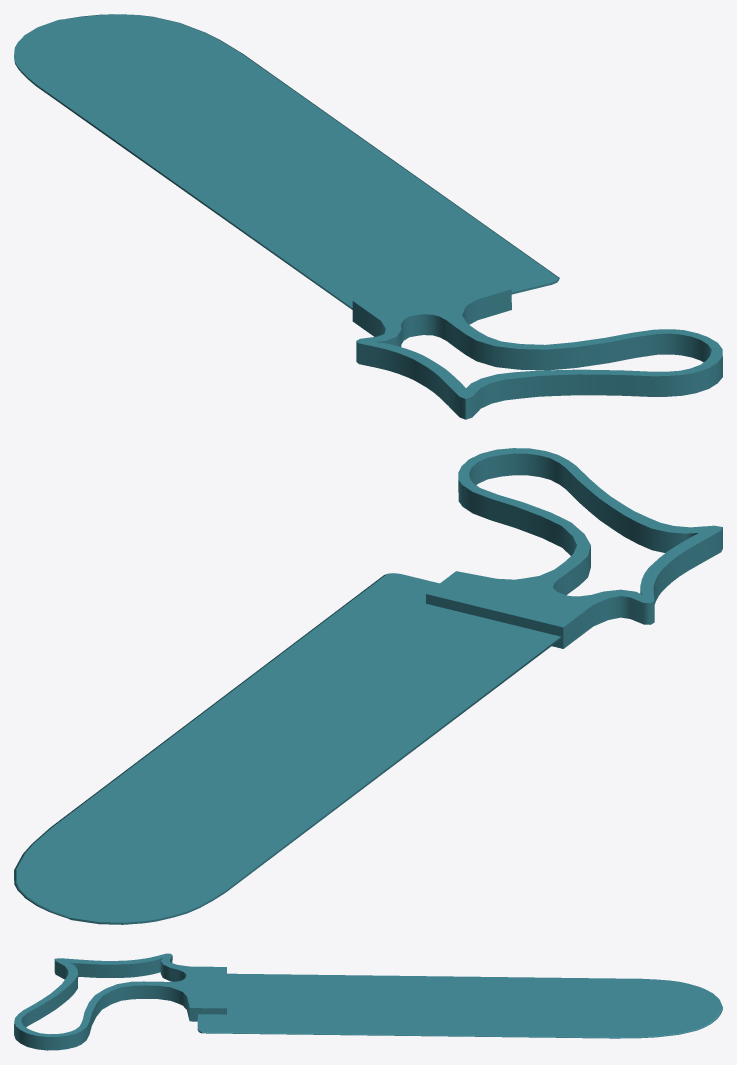
The model's file is SM_Surgical_Saw_5.FBX.
3 renders of one model, top to bottom at view 1: azimuth 30°, elevation 25°; view 2: azimuth 150°, elevation 25°; view 3: azimuth 270°, elevation 25°, orthographic. The views are drawn at different scales.
Visible parts, largest first — view 1: Surgical_Saw_5; view 2: Surgical_Saw_5; view 3: Surgical_Saw_5.
Boxes of the visible parts, x1=… form: Surgical_Saw_5: x1=14, y1=14, x2=722, y2=419; Surgical_Saw_5: x1=14, y1=448, x2=722, y2=924; Surgical_Saw_5: x1=14, y1=953, x2=722, y2=1050.
Size of the model in its own units: 10.84 by 0.9561 by 38.19.
